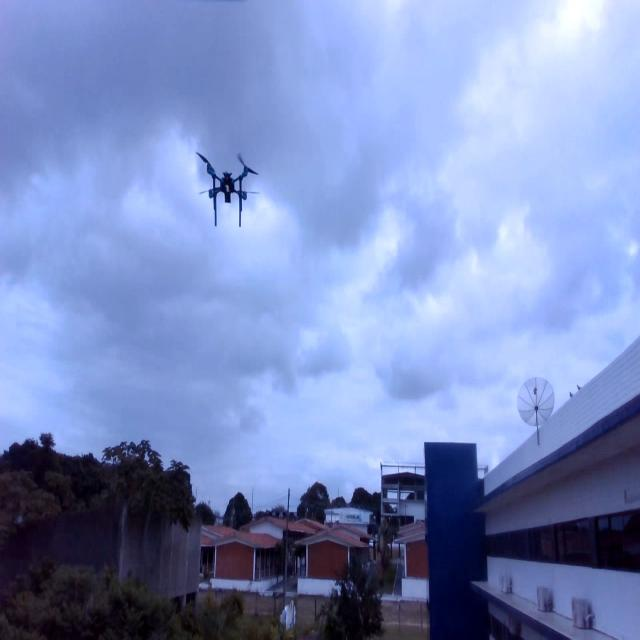-uav-: (187, 123, 270, 256)
